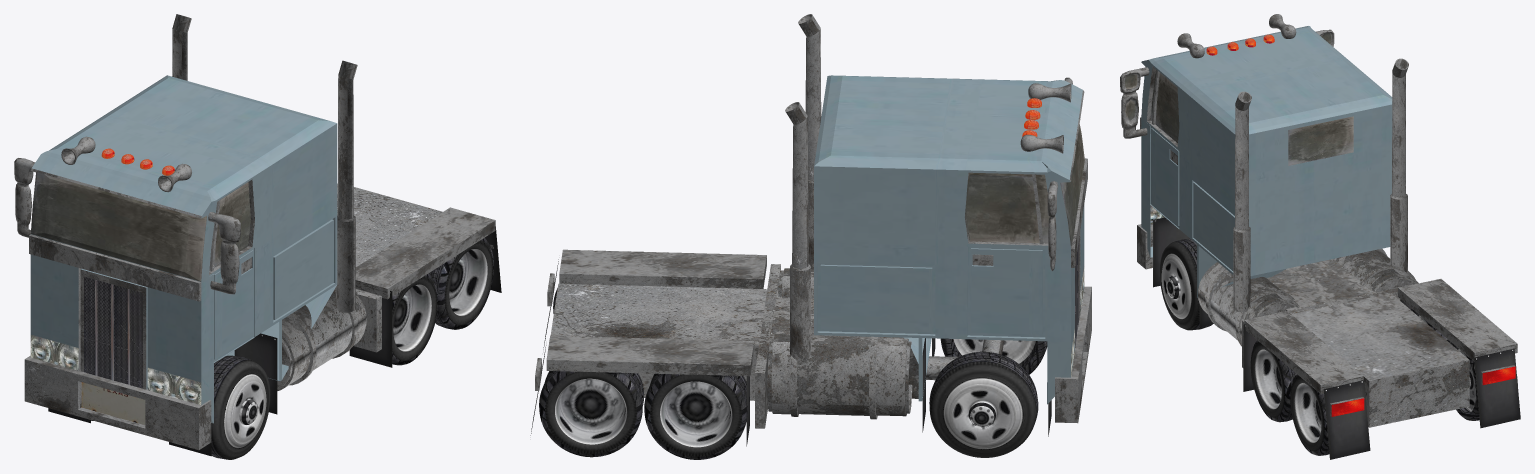
The model's file is 1984_peterbilt_362.glb.
3 views of the same model, side by side, from view 1: azimuth 30°, elevation 25°; view 2: azimuth 150°, elevation 25°; view 3: azimuth 270°, elevation 25° (orthographic). The views are drawn at different scales.
Parts seen in each view (by area): view 1: Object_3, Object_7, Object_12, Object_5, Object_18, Object_21, Object_8, Object_22, Object_20, Object_15, Object_19, Object_16 (+8 smaller); view 2: Object_3, Object_20, Object_21, Object_18, Object_15, Object_19, Object_22, Object_9, Object_4, Object_12, Object_2, Object_5 (+6 smaller); view 3: Object_3, Object_20, Object_21, Object_16, Object_22, Object_15, Object_18, Object_9, Object_19, Object_4, Object_26, Object_24 (+4 smaller).
Part boxes in pixels (x1,y1,x2,y2): Object_3: (30,75,337,423); Object_7: (30,172,206,281); Object_12: (24,355,211,450); Object_5: (29,168,254,389); Object_18: (392,240,493,360); Object_21: (355,207,495,299); Object_8: (84,276,142,388); Object_22: (172,14,357,312); Object_20: (214,183,442,363); Object_15: (277,288,366,390); Object_19: (211,360,270,459); Object_16: (48,226,501,456); Object_3: (814,75,1084,404); Object_20: (550,264,918,428); Object_21: (546,249,766,376); Object_18: (545,371,741,456); Object_15: (767,268,912,419); Object_19: (929,339,1036,457); Object_22: (785,14,821,364); Object_9: (965,172,1049,243); Object_4: (539,288,749,459); Object_12: (1055,286,1091,423); Object_2: (929,338,1047,422); Object_5: (964,90,1087,317); Object_3: (1141,26,1392,298); Object_20: (1242,259,1469,427); Object_21: (1244,279,1517,394); Object_16: (1153,217,1520,459); Object_22: (1233,58,1408,312); Object_15: (1198,248,1418,346); Object_18: (1250,342,1324,451); Object_9: (1150,69,1353,165); Object_19: (1159,241,1199,330); Object_4: (1252,309,1517,455); Object_26: (1120,29,1334,138); Object_24: (1331,366,1515,416).
Size of the model in its own units: 12.65 by 8.26 by 10.11.
Materials: 26 (26 with a texture image).
